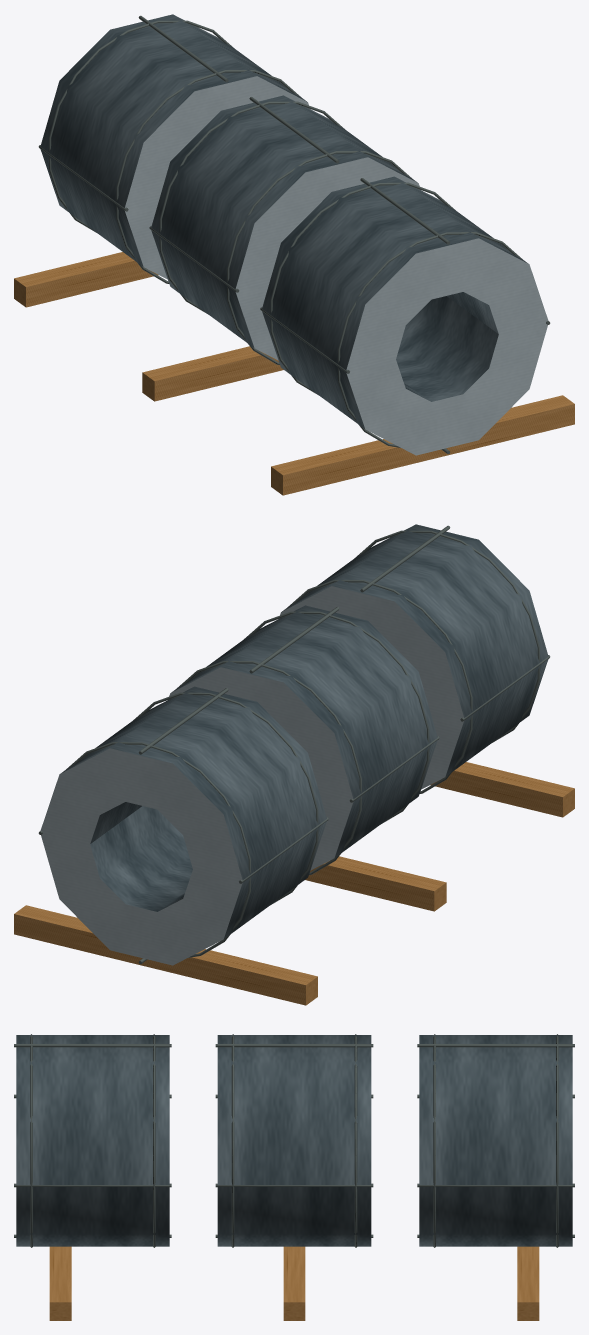
Rendered from wire_rod_coils.glb.
3 renders of one model, top to bottom at view 1: azimuth 30°, elevation 25°; view 2: azimuth 150°, elevation 25°; view 3: azimuth 270°, elevation 25°, orthographic. The views are drawn at different scales.
Visible parts, largest first — view 1: Mill-scale steel, Steel cut edges, Pine dunnage, Steel tie wire; view 2: Mill-scale steel, Steel cut edges, Pine dunnage, Steel tie wire; view 3: Mill-scale steel, Steel tie wire, Pine dunnage.
Part boxes in pixels (box(x1,y1,x2,y2)): Mill-scale steel: box(40, 14, 528, 428); Steel cut edges: box(125, 76, 548, 455); Pine dunnage: box(14, 252, 574, 495); Steel tie wire: box(38, 15, 550, 453); Mill-scale steel: box(60, 524, 548, 938); Steel cut edges: box(40, 586, 463, 965); Pine dunnage: box(14, 762, 574, 1005); Steel tie wire: box(38, 525, 550, 963); Mill-scale steel: box(16, 1035, 572, 1246); Steel tie wire: box(14, 1034, 574, 1247); Pine dunnage: box(49, 1246, 539, 1320).
Bounding box in the file's own units: 2.1 × 1.6 × 3.84.
Materials: 4 (3 with a texture image).
